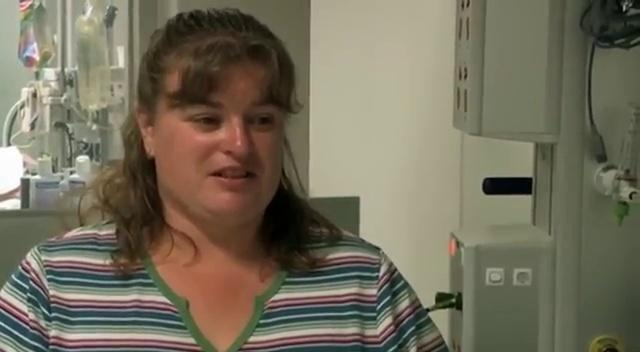others: (0, 1, 456, 352)
